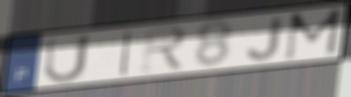8: (192, 19, 238, 70)
I: (117, 28, 135, 78)
J: (245, 15, 285, 62)
M: (282, 7, 345, 62)
R: (140, 24, 190, 74)
U: (42, 33, 92, 85)
